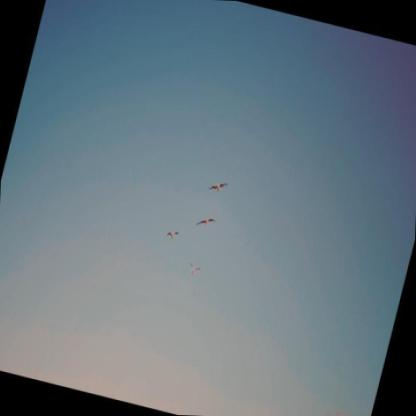bird: (205, 178, 230, 197), (194, 214, 218, 233), (186, 262, 203, 279), (166, 228, 180, 241)
